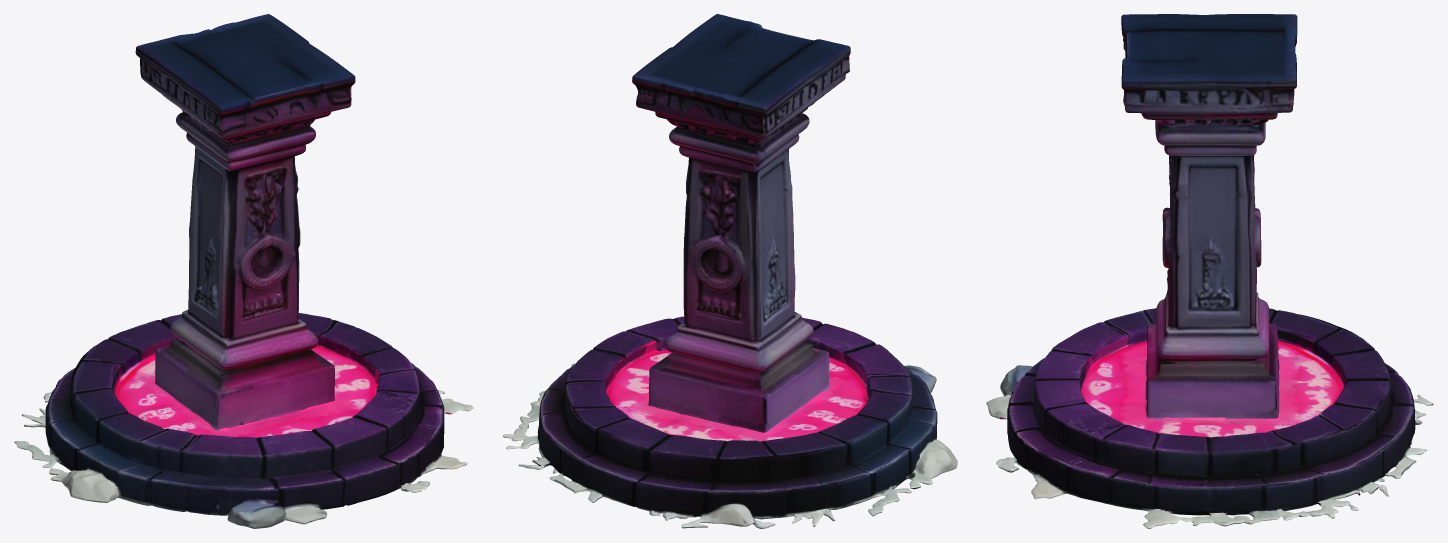
File: support-column-generated-2026-05-17T18-34-01-911Z.high.glb
3 views of the same model, side by side, from view 1: azimuth 30°, elevation 25°; view 2: azimuth 150°, elevation 25°; view 3: azimuth 270°, elevation 25° (orthographic). The views are drawn at different scales.
Parts seen in each view (by area): view 1: temp_mesh.ply; view 2: temp_mesh.ply; view 3: temp_mesh.ply.
Boxes of the visible parts, box(x1,y1,x2,y2) form: temp_mesh.ply: box(14, 14, 473, 528); temp_mesh.ply: box(502, 14, 957, 528); temp_mesh.ply: box(986, 14, 1433, 528).
Size of the model in its own units: 1.97 by 1.81 by 1.9.
Materials: 1 (1 with a texture image).
